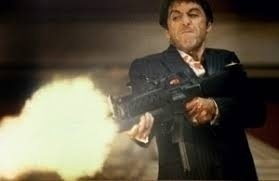pistol: (110, 73, 207, 134)
